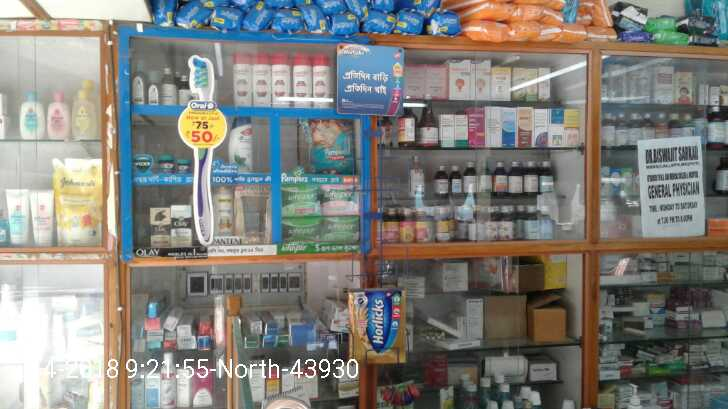vicks: (157, 153, 189, 174)
